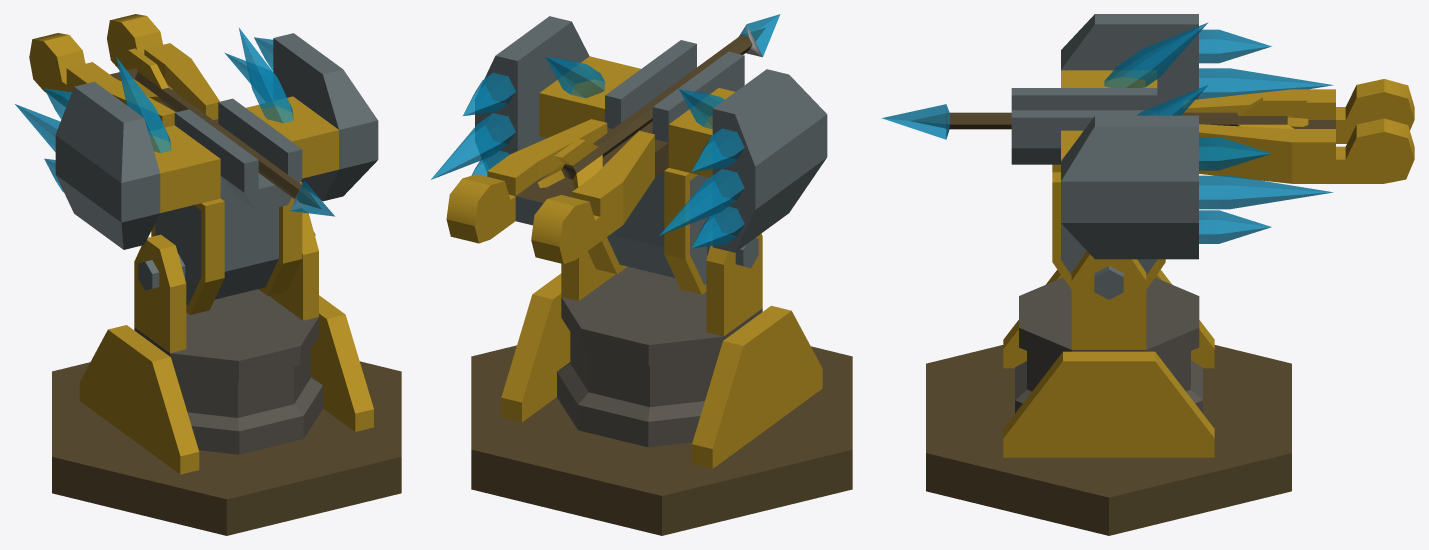
Rendered from turretTower_ballista01.fbx.
3 renders of one model, left to right at view 1: azimuth 30°, elevation 25°; view 2: azimuth 150°, elevation 25°; view 3: azimuth 270°, elevation 25°, orthographic. The views are drawn at different scales.
Visible parts, largest first — view 1: ballista01_base, ballista01_arms, ballista01_arrow; view 2: ballista01_base, ballista01_arms, ballista01_arrow; view 3: ballista01_base, ballista01_arms, ballista01_arrow.
Part boxes in pixels (x1,y1,x2,y2): ballista01_base: (52, 210, 401, 535); ballista01_arms: (15, 14, 378, 314); ballista01_arrow: (120, 48, 334, 216); ballista01_base: (471, 233, 852, 535); ballista01_arms: (431, 16, 827, 294); ballista01_arrow: (537, 14, 780, 189); ballista01_base: (926, 251, 1291, 535); ballista01_arms: (1011, 14, 1414, 289); ballista01_arrow: (881, 97, 1308, 139).
Bounding box in the file's own units: 200 × 205 × 252.
